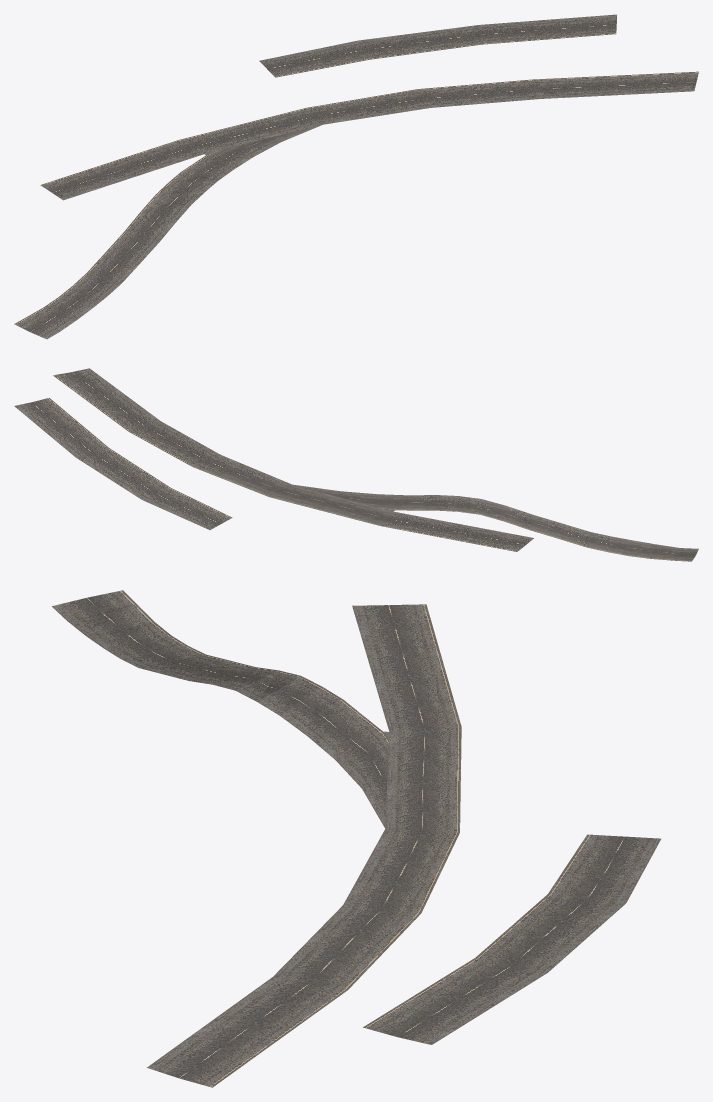
The model's file is cs_lodroads08.obj.
3 views of the same model, one above another, from view 1: azimuth 30°, elevation 25°; view 2: azimuth 150°, elevation 25°; view 3: azimuth 270°, elevation 25° (orthographic). The views are drawn at different scales.
Parts seen in each view (by area): view 1: cs_lodroads08; view 2: cs_lodroads08; view 3: cs_lodroads08.
Part boxes in pixels (left/top/right/bottom): cs_lodroads08: left=14, top=14, right=698, bottom=339; cs_lodroads08: left=14, top=368, right=698, bottom=561; cs_lodroads08: left=52, top=590, right=660, bottom=1087.
Bounding box in the file's own units: 229 × 24.32 × 98.21.
Materials: 1 (1 with a texture image).
